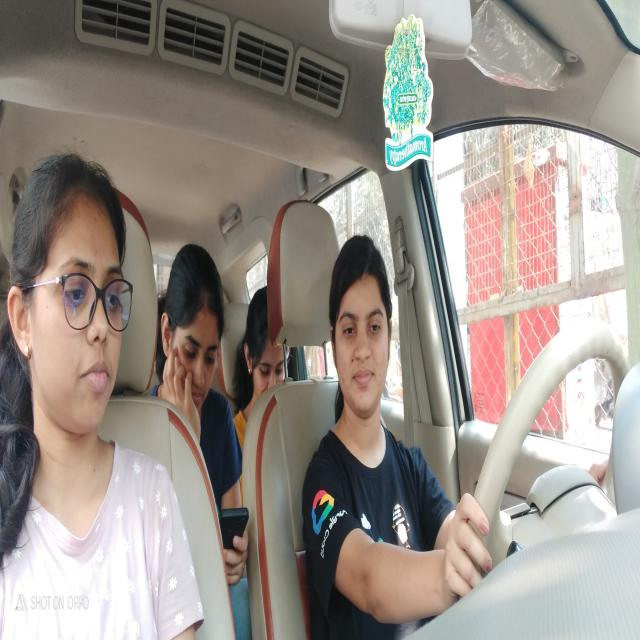person: (7, 153, 131, 440), (327, 221, 396, 448), (161, 243, 224, 402), (240, 290, 291, 405)
